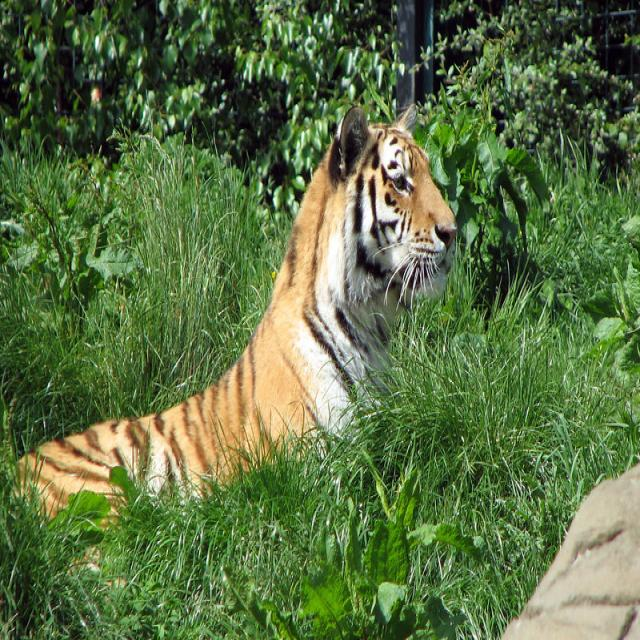Tiger: (12, 103, 456, 526)
